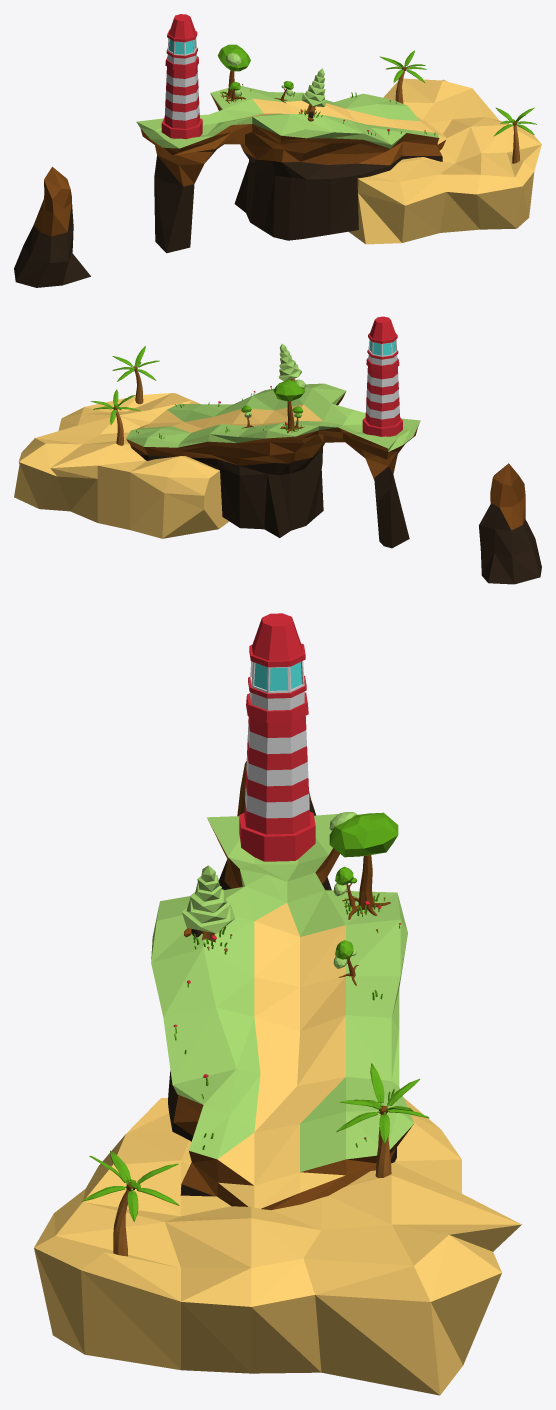
The model's file is Island_A01.fbx.
3 renders of one model, top to bottom at view 1: azimuth 30°, elevation 25°; view 2: azimuth 150°, elevation 25°; view 3: azimuth 270°, elevation 25°, orthographic. The views are drawn at different scales.
Parts seen in each view (by area): view 1: Island_A01_Combi; view 2: Island_A01_Combi; view 3: Island_A01_Combi.
Part boxes in pixels (x1,y1,x2,y2): Island_A01_Combi: (14,14,541,287); Island_A01_Combi: (14,316,541,584); Island_A01_Combi: (34,613,521,1395).
Size of the model in its own units: 79.23 by 35.84 by 34.37.
